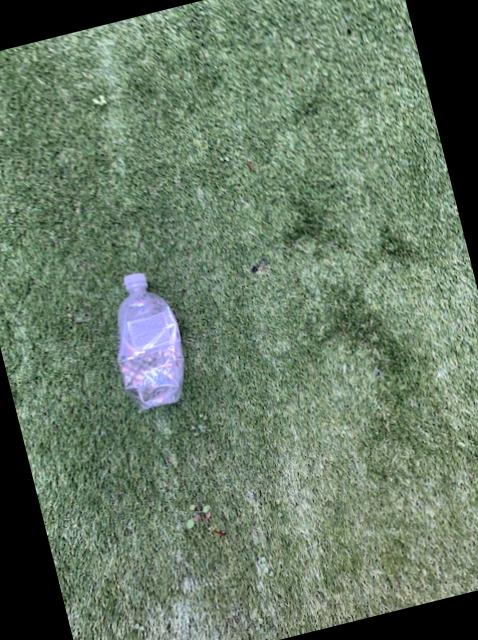plastic: (117, 271, 183, 407)
